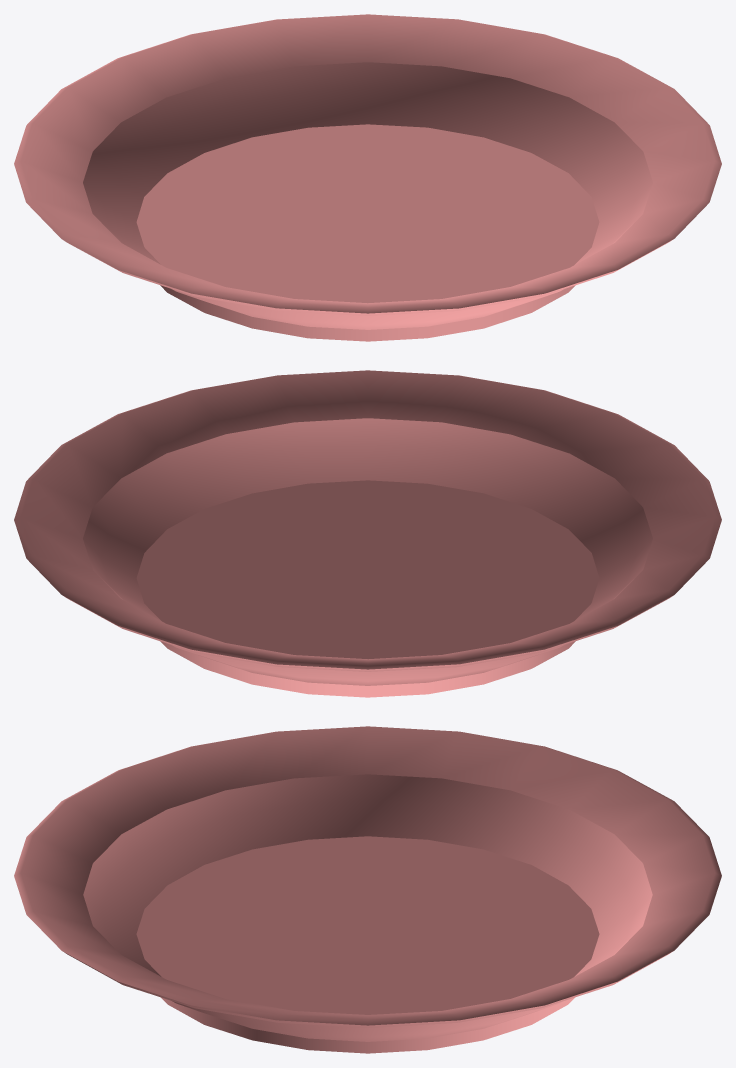
File: TFYK_soup_plate_high_poly.FBX
3 renders of one model, top to bottom at view 1: azimuth 30°, elevation 25°; view 2: azimuth 150°, elevation 25°; view 3: azimuth 270°, elevation 25°, orthographic.
Parts seen in each view (by area): view 1: TFYK_soup_plate_high_poly; view 2: TFYK_soup_plate_high_poly; view 3: TFYK_soup_plate_high_poly.
Boxes of the visible parts, bbox=[...] form: TFYK_soup_plate_high_poly: bbox=[14, 14, 721, 341]; TFYK_soup_plate_high_poly: bbox=[14, 370, 721, 697]; TFYK_soup_plate_high_poly: bbox=[14, 726, 721, 1053].
Bounding box in the file's own units: 0.1544 × 0.0199 × 0.1544.
